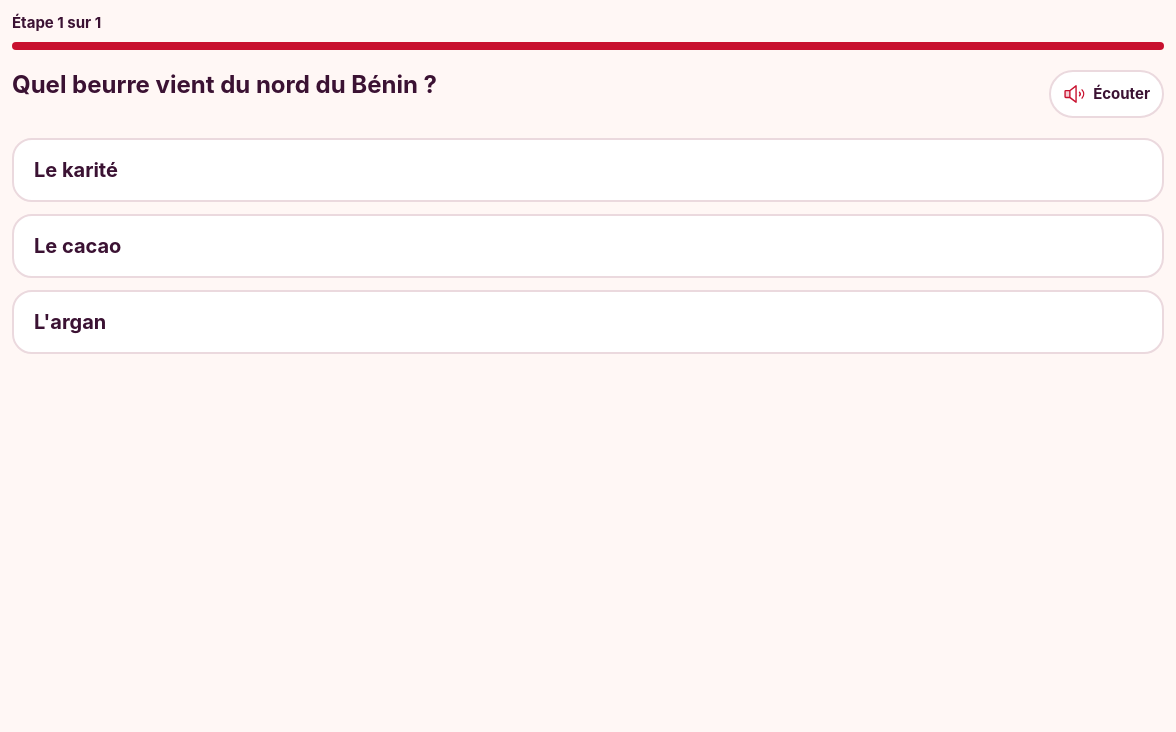
Test: DailyQuizScreen › answers a question with big buttons and tells the points
Check: the text "Étape 1 sur 1" is shown, box x1=12 y1=13 x2=101 y2=32
Click the button "Le karité" at (76, 170), box x1=12 y1=138 x2=1164 y2=202
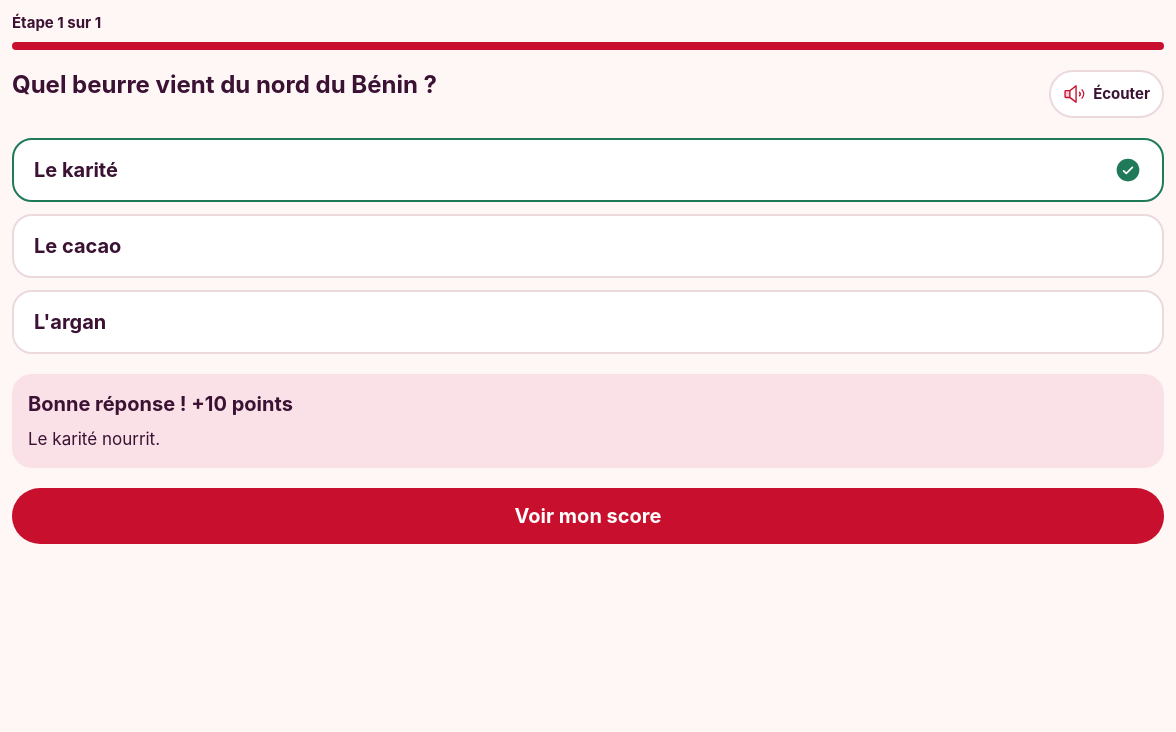
Check: the text "Bonne réponse ! +10 points" is shown, box x1=28 y1=392 x2=293 y2=416
Check: the text "Le karité nourrit." is shown, box x1=28 y1=429 x2=160 y2=449
Check: the button "Voir mon score" is shown, box x1=12 y1=488 x2=1164 y2=544
